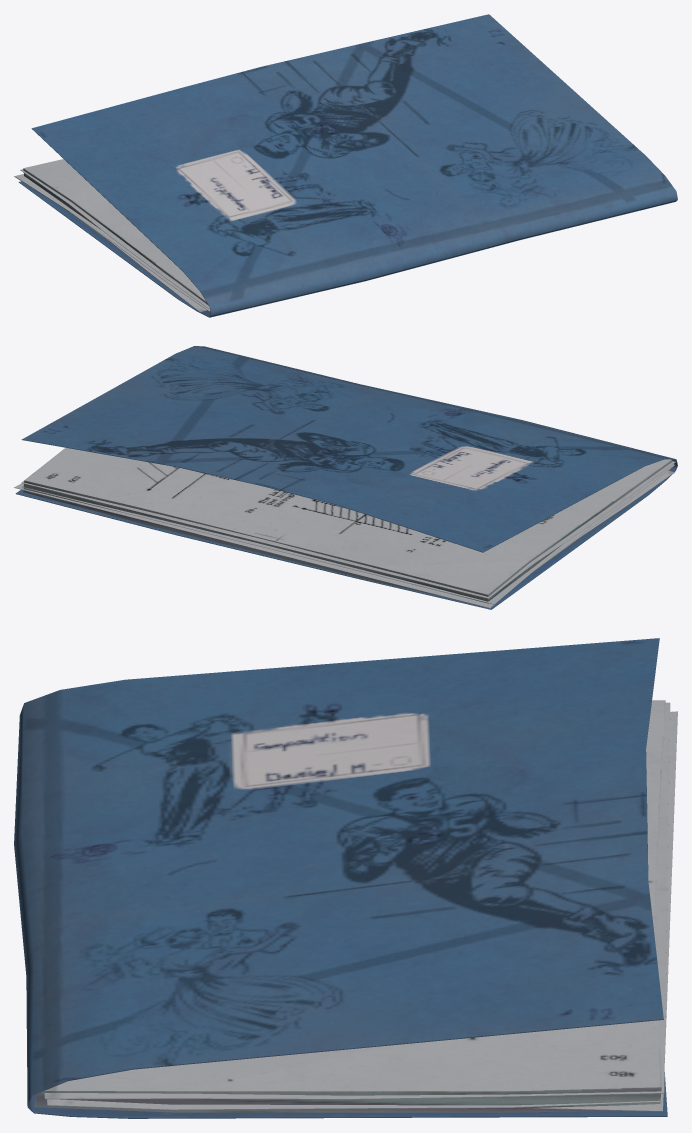
The model's file is SM_Folder_Stack_01f.fbx.
3 views of the same model, one above another, from view 1: azimuth 30°, elevation 25°; view 2: azimuth 150°, elevation 25°; view 3: azimuth 270°, elevation 25° (orthographic). The views are drawn at different scales.
Visible parts, largest first — view 1: SM_Folder_Stack_01f_LOD0; view 2: SM_Folder_Stack_01f_LOD0; view 3: SM_Folder_Stack_01f_LOD0.
Boxes of the visible parts, x1=… form: SM_Folder_Stack_01f_LOD0: x1=14, y1=14, x2=677, y2=317; SM_Folder_Stack_01f_LOD0: x1=14, y1=346, x2=677, y2=609; SM_Folder_Stack_01f_LOD0: x1=14, y1=638, x2=677, y2=1118.
Bounding box in the file's own units: 30.49 × 21.33 × 4.06.
1 material, 1 textured.
